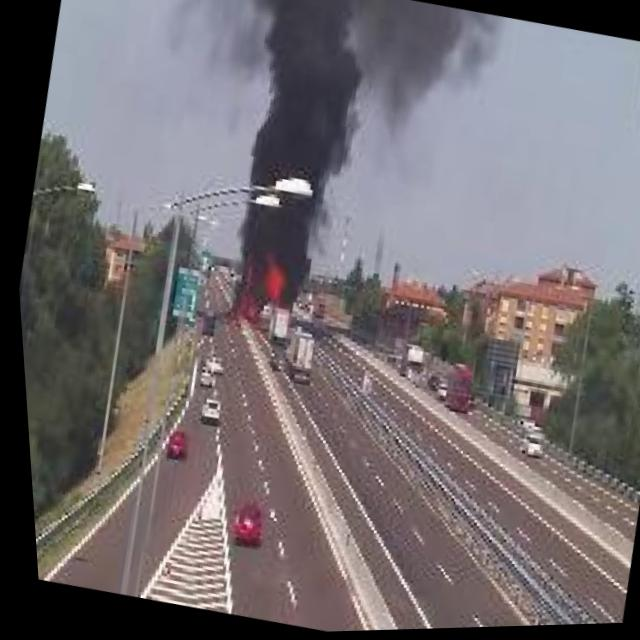fire: (215, 236, 296, 332)
